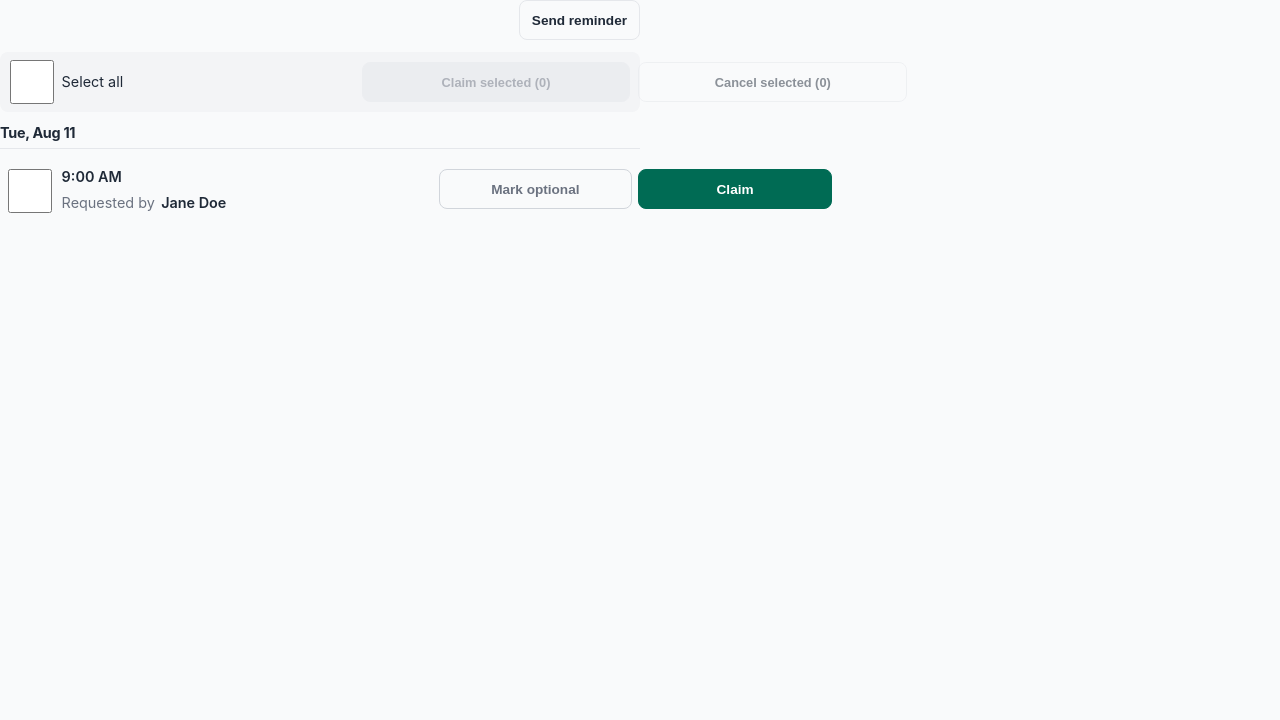
NeedsCoverageList › reminder › asks for confirmation before sending, and sends nothing if dismissed
Expected: the text "Jane Doe" is shown, [161,191,226,214]
What coordinates should you click on to do the following:
click the button "Send reminder"
I would click on:
 (579, 20)
Its box is [519,0,640,40].
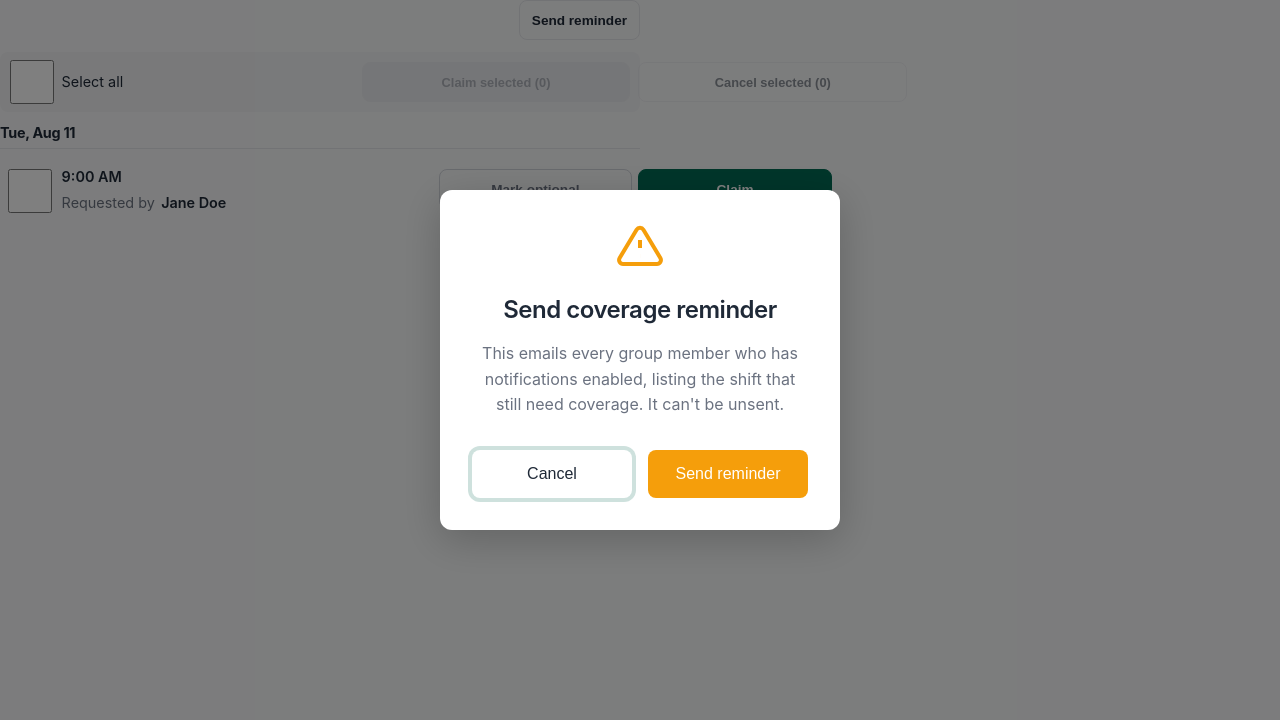
What coordinates should you click on to do the following:
click the button "Cancel"
I would click on:
 (552, 474)
Its box is [472,450,632,498].
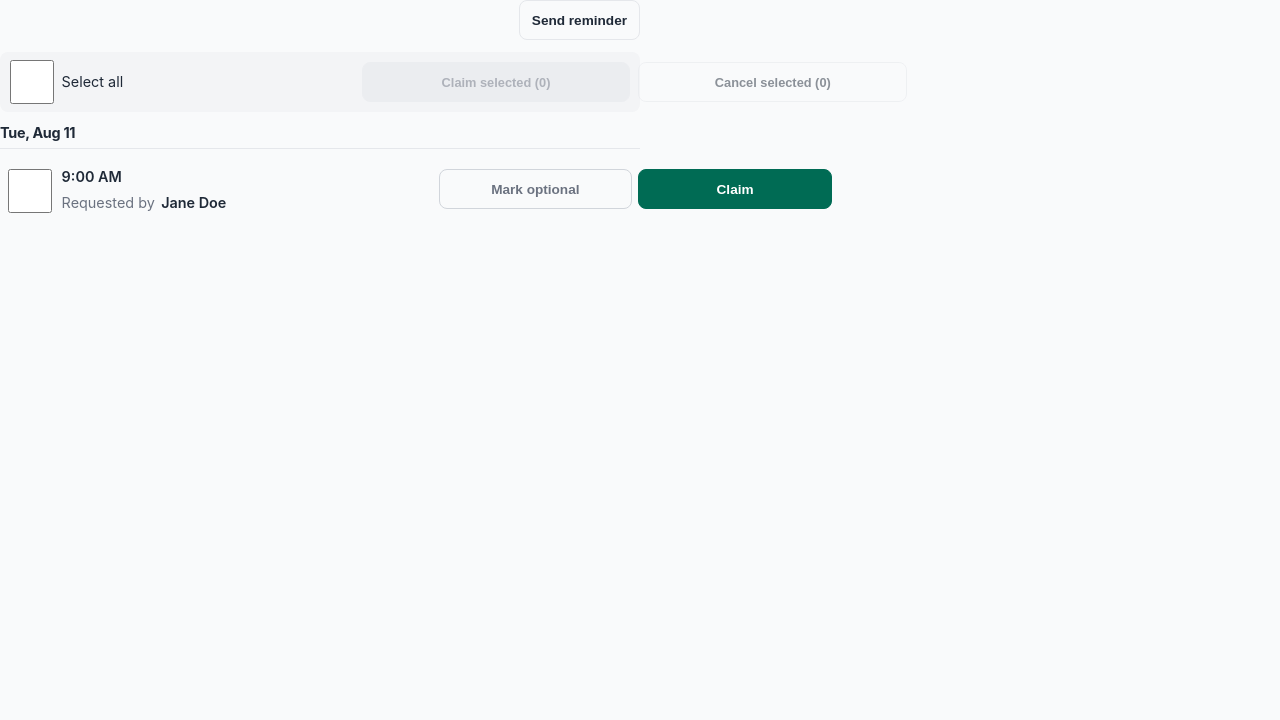
Now the dialog is gone
